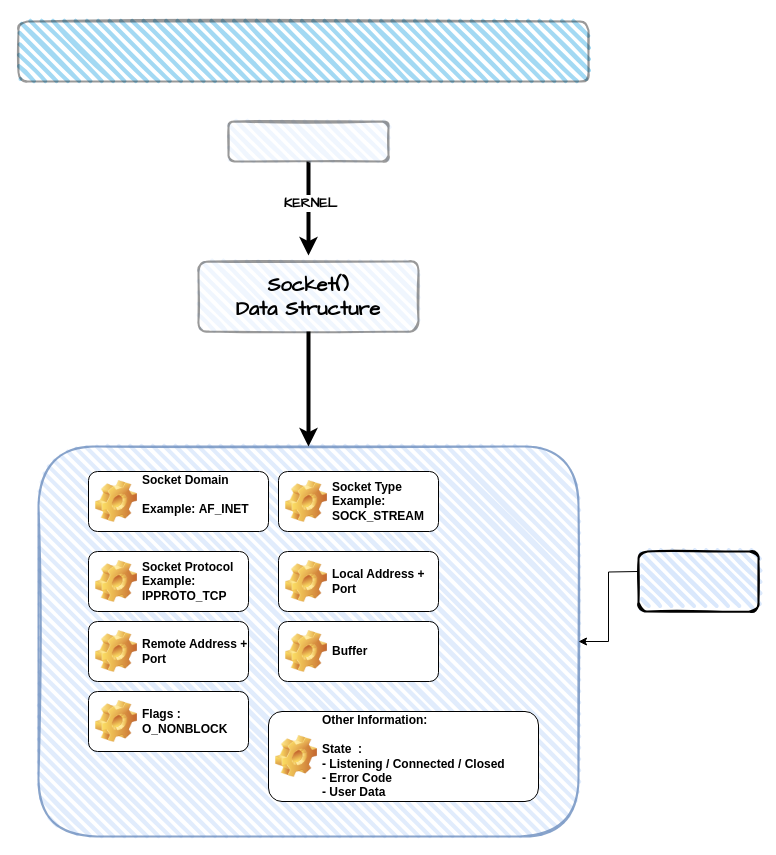
The diagram is 776 pixels wide and 855 high, and some of its shapes have lost their labels. The centre of each missing label's shape, as x and y in pixels:
"getsockopt() setsockopt()" belongs at point 698,581.
"inter-process communication (IPC) over Network" belongs at point 303,51.
"Socket()" belongs at point 308,141.
